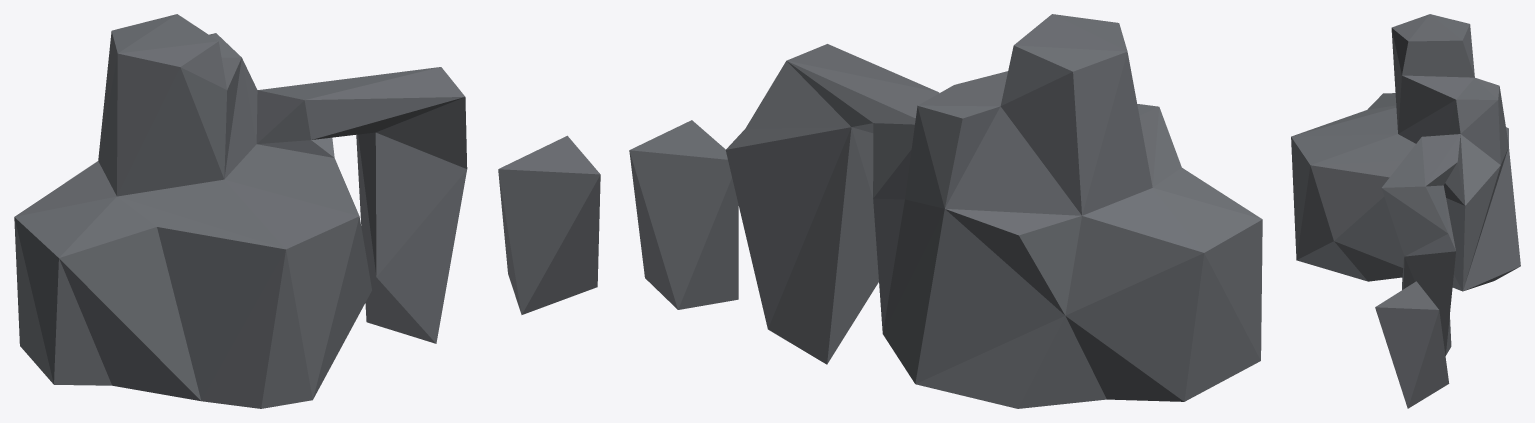
File: RW_HG_Environment_Rocks.001.fbx
The picture shows the model from 3 angles, left to right: view 1: azimuth 30°, elevation 25°; view 2: azimuth 150°, elevation 25°; view 3: azimuth 270°, elevation 25°; orthographic projection. The views are drawn at different scales.
Visible parts, largest first — view 1: RW_HG_Environment_Rocks.001; view 2: RW_HG_Environment_Rocks.001; view 3: RW_HG_Environment_Rocks.001.
Part boxes in pixels (x1,y1,x2,y2): RW_HG_Environment_Rocks.001: (14,14,600,408); RW_HG_Environment_Rocks.001: (629,14,1262,408); RW_HG_Environment_Rocks.001: (1291,14,1520,408).
Size of the model in its own units: 3.42 by 2.06 by 1.74.
